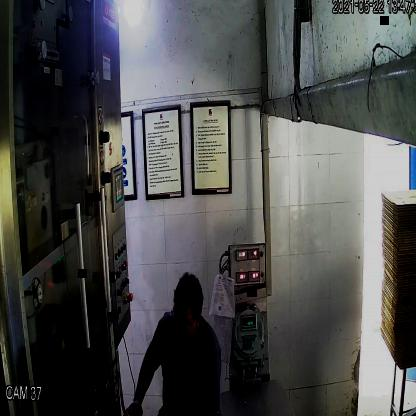goggles: (168, 308, 198, 333)
